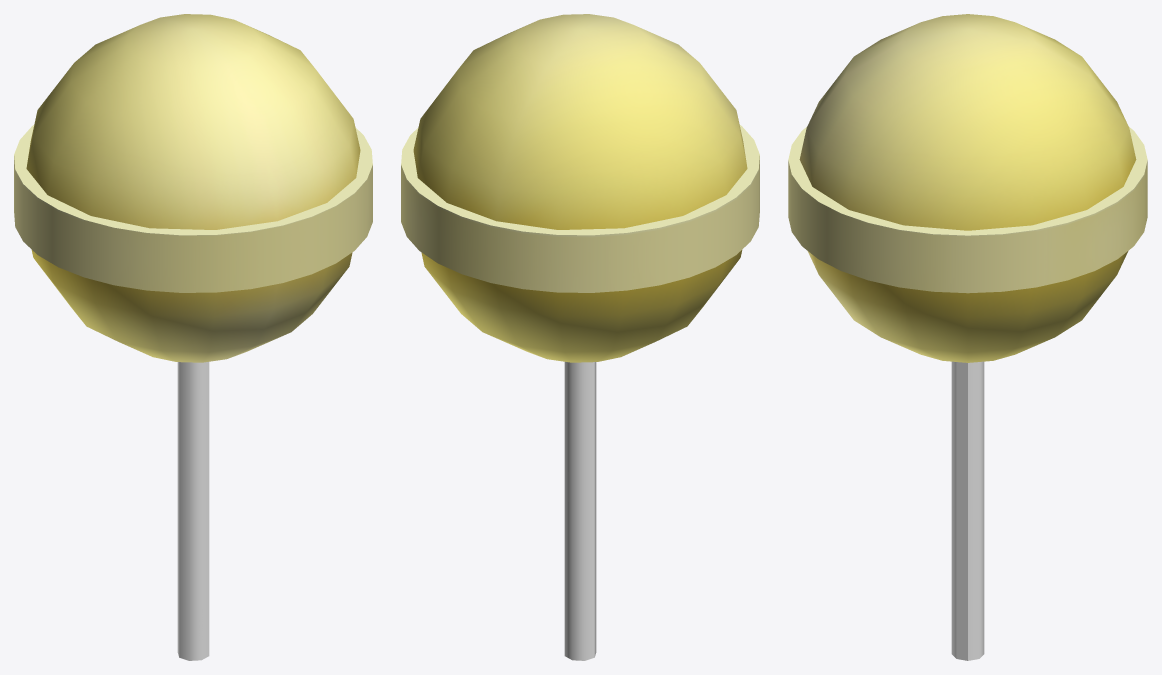
The model's file is ENV1810006.fbx.
The picture shows the model from 3 angles, left to right: view 1: azimuth 30°, elevation 25°; view 2: azimuth 150°, elevation 25°; view 3: azimuth 270°, elevation 25°; orthographic projection.
Visible parts, largest first — view 1: smENV1810006; view 2: smENV1810006; view 3: smENV1810006.
Boxes of the visible parts, x1,y1,x2,y2 form: smENV1810006: (14, 14, 372, 660); smENV1810006: (401, 14, 759, 660); smENV1810006: (788, 14, 1147, 660).
Size of the model in its own units: 4.91 by 9.4 by 4.91.
1 material, 1 textured.
